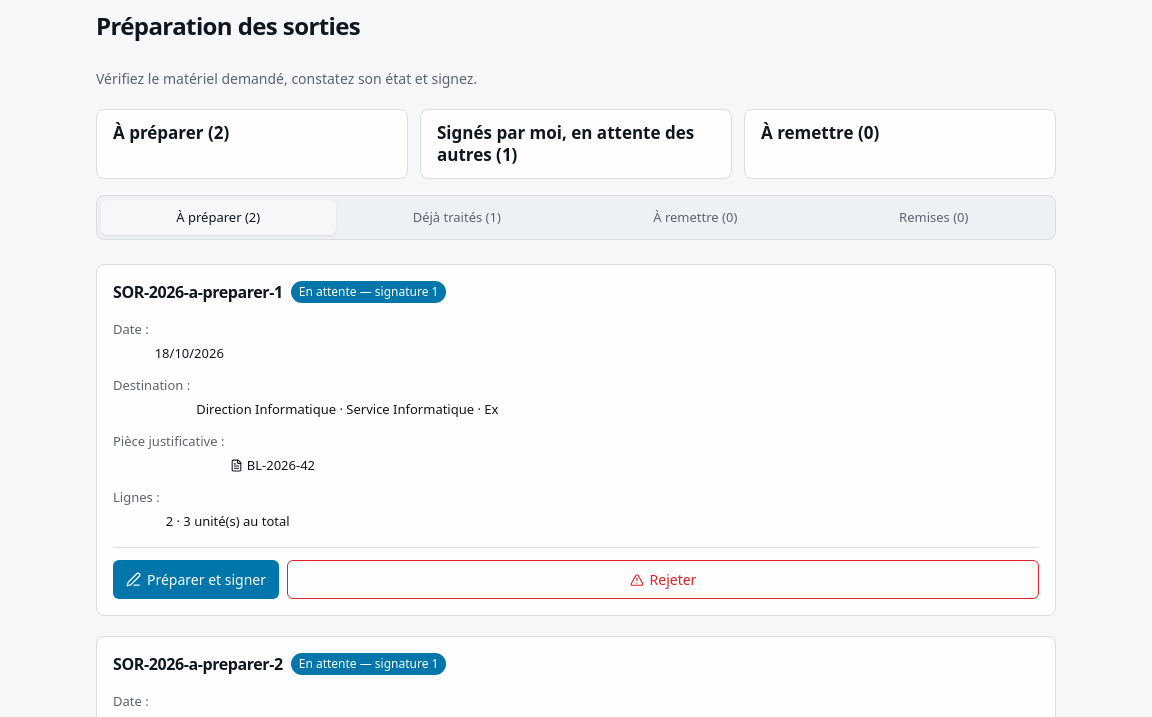
Test: Espace magasinier — en-tête, compteurs, onglets › E2 : « À préparer » exclut « Demandée » ; « Déjà traités » est en lecture seule
expect the heading "SOR-2026-a-preparer-1" is shown: met, box [113,282,283,303]
expect the heading "SOR-2026-a-preparer-2" is shown: met, box [113,654,283,675]
Click the tab "Déjà traités (1)": [457, 218] box [340,200,574,236]
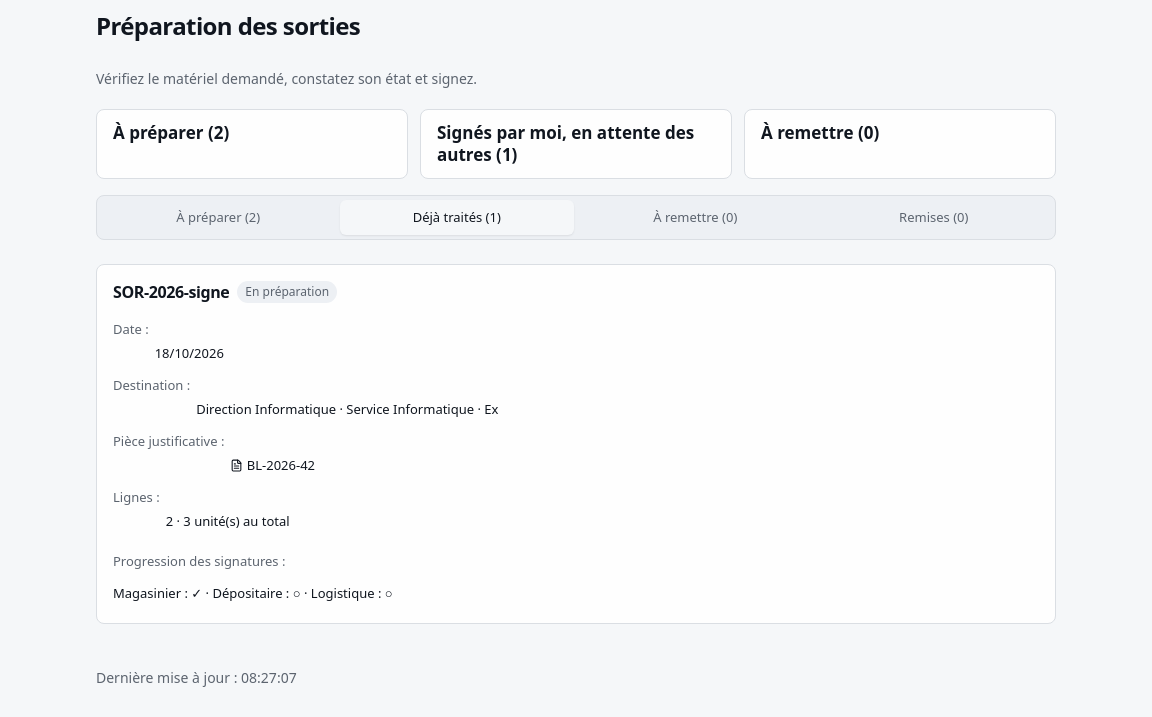
expect the heading "SOR-2026-signe" is shown: met, box [113,282,229,303]
expect the heading "SOR-2026-a-preparer-1" is gone: met
expect no buttons "Préparer et signer" are shown: met
